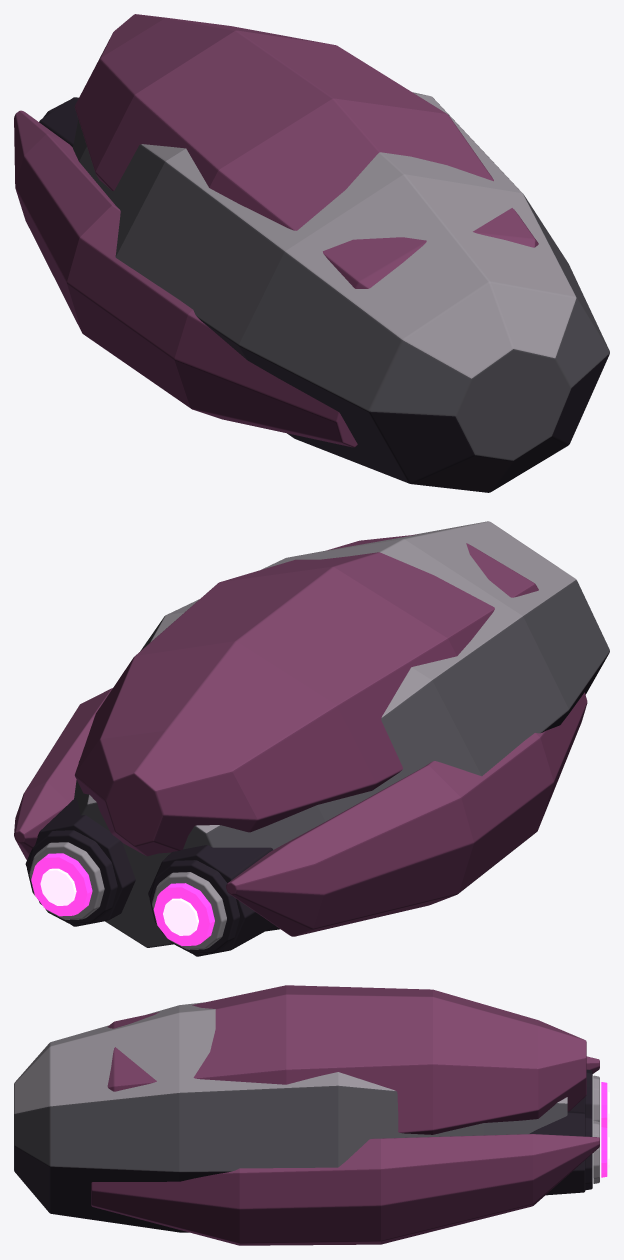
The model's file is Comet.fbx.
3 views of the same model, one above another, from view 1: azimuth 30°, elevation 25°; view 2: azimuth 150°, elevation 25°; view 3: azimuth 270°, elevation 25° (orthographic). The views are drawn at different scales.
Parts seen in each view (by area): view 1: Armor 1, Armor 2, Armor 3; view 2: Armor 2, Armor 3, Armor 1, Armor 4; view 3: Armor 1, Armor 2, Armor 4, Armor 3.
Part boxes in pixels (bbox=[...]): Armor 1: bbox=[72, 92, 609, 492]; Armor 2: bbox=[74, 14, 538, 288]; Armor 3: bbox=[14, 97, 357, 447]; Armor 2: bbox=[74, 534, 538, 856]; Armor 3: bbox=[148, 692, 587, 956]; Armor 1: bbox=[74, 521, 609, 947]; Armor 4: bbox=[14, 688, 135, 926]; Armor 1: bbox=[14, 1002, 567, 1232]; Armor 2: bbox=[107, 985, 586, 1134]; Armor 4: bbox=[91, 1111, 609, 1245]; Armor 3: bbox=[570, 1056, 609, 1127].
Size of the model in its own units: 0.0714 by 0.0502 by 0.12.
